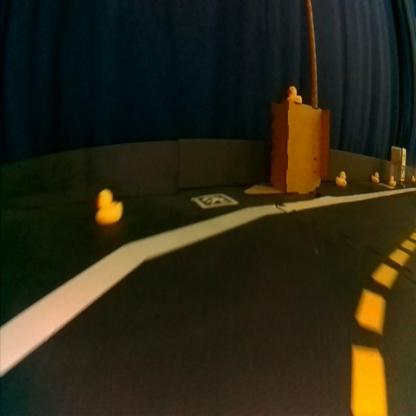Duckie: (97, 188, 123, 222), (288, 84, 304, 103), (336, 170, 348, 184), (392, 175, 398, 185), (374, 171, 380, 179), (410, 173, 415, 182)
QR code: (194, 191, 238, 209)
